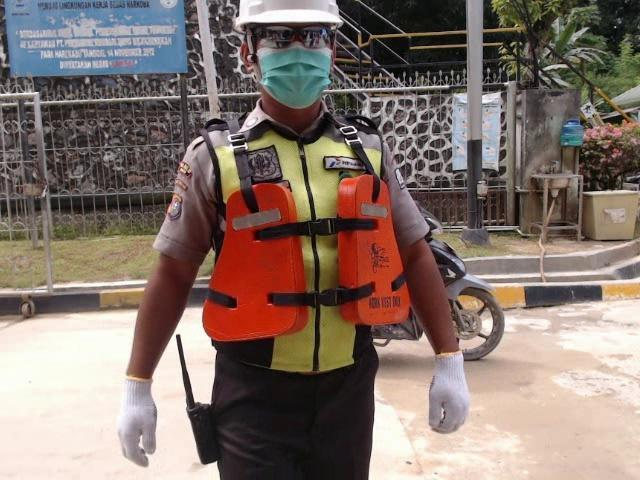vest: (197, 172, 417, 350)
